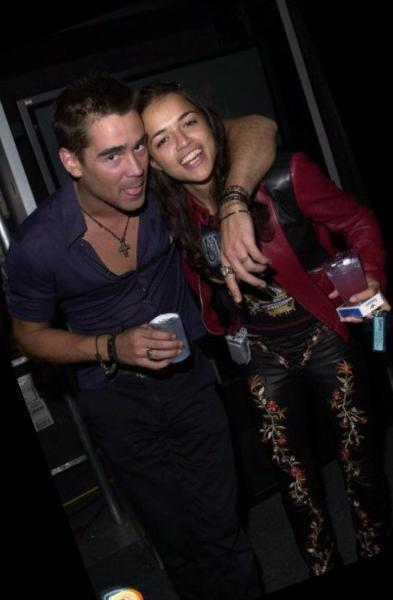Drunk: (92, 105, 150, 210), (149, 100, 214, 180)
